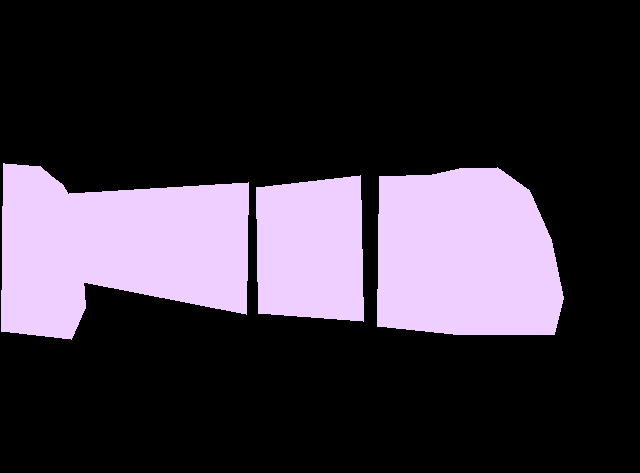Train: (69, 167, 564, 334), (1, 163, 86, 339)
